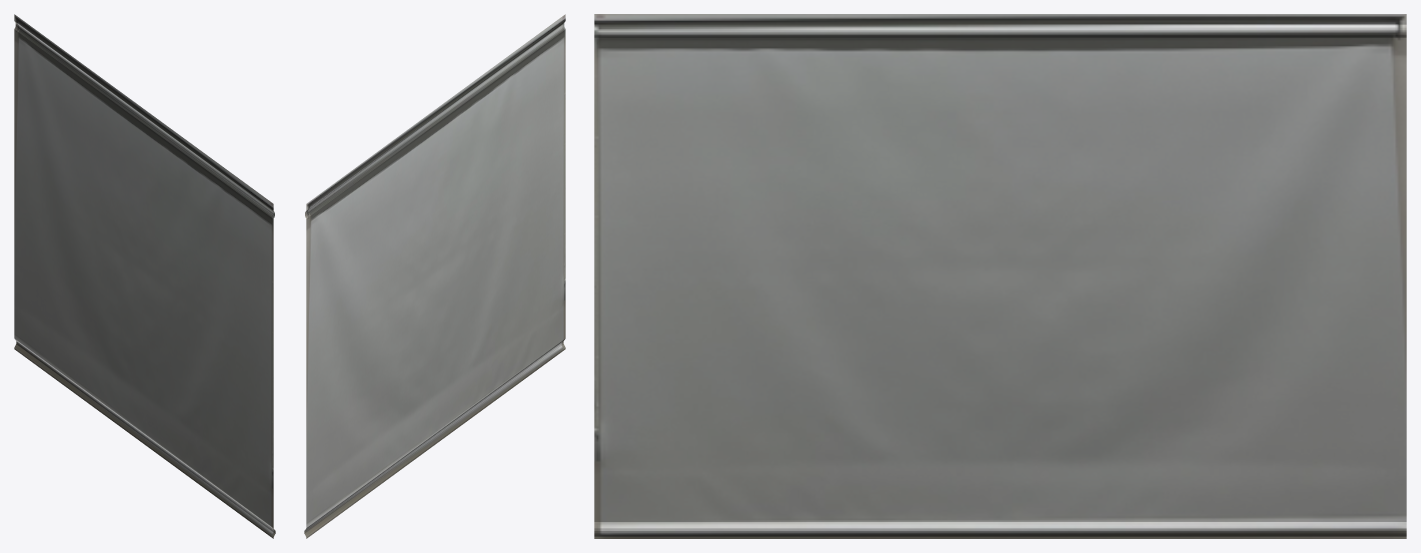
Rendered from curtain.fbx.
3 renders of one model, left to right at view 1: azimuth 30°, elevation 25°; view 2: azimuth 150°, elevation 25°; view 3: azimuth 270°, elevation 25°, orthographic. The views are drawn at different scales.
Visible parts, largest first — view 1: IMG_0008.001; view 2: IMG_0008.001; view 3: IMG_0008.001.
Part boxes in pixels (x1=…): IMG_0008.001: x1=14, y1=14, x2=275, y2=538; IMG_0008.001: x1=304, y1=14, x2=565, y2=538; IMG_0008.001: x1=594, y1=14, x2=1406, y2=538.
Bounding box in the file's own units: 0.918 × 135 × 189.
